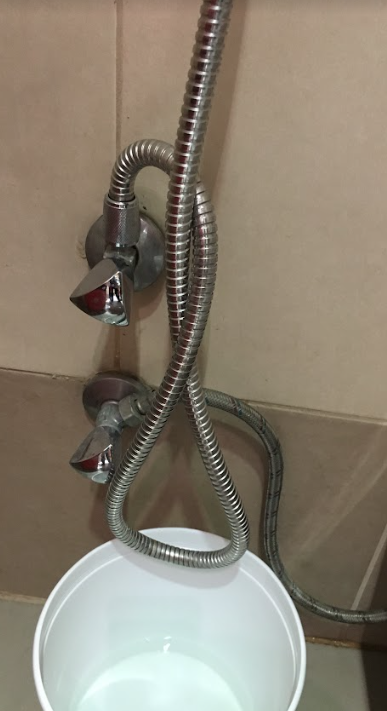Toilet: (57, 4, 336, 612)
